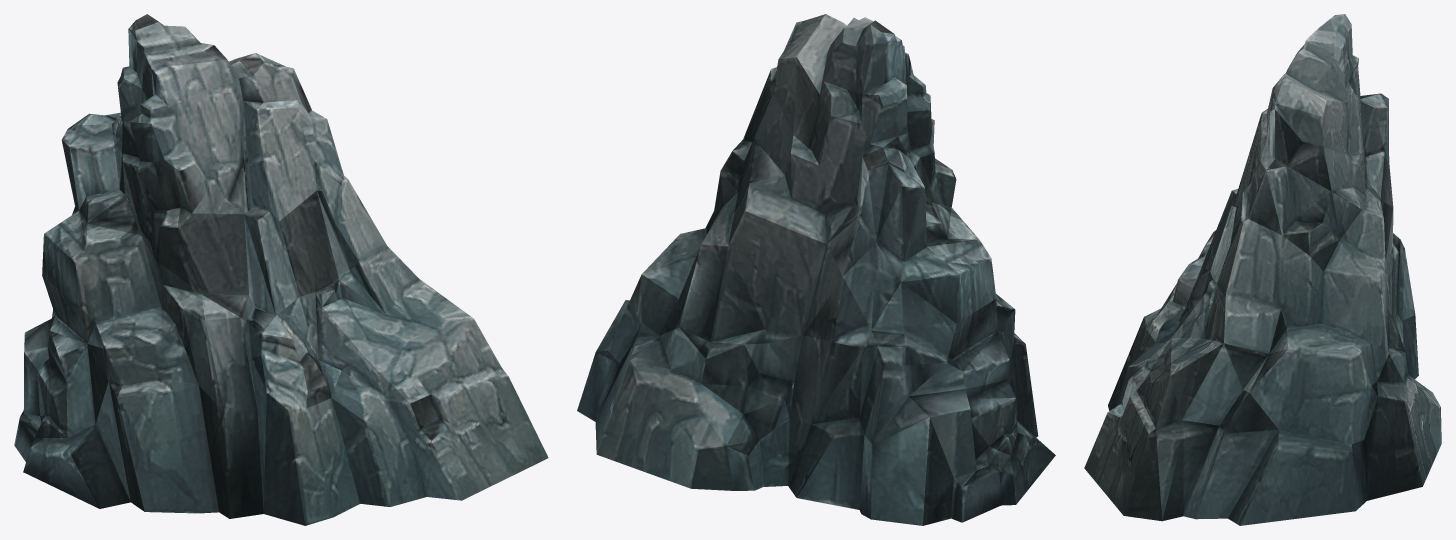
The model's file is W3_HD_GongHuiBoss_dashi01_07.fbx.
3 views of the same model, side by side, from view 1: azimuth 30°, elevation 25°; view 2: azimuth 150°, elevation 25°; view 3: azimuth 270°, elevation 25° (orthographic). The views are drawn at different scales.
Visible parts, largest first — view 1: W3_HD_GongHuiBoss_dashi01_07; view 2: W3_HD_GongHuiBoss_dashi01_07; view 3: W3_HD_GongHuiBoss_dashi01_07.
Part boxes in pixels (x1,y1,x2,y2): W3_HD_GongHuiBoss_dashi01_07: (14, 14, 548, 525); W3_HD_GongHuiBoss_dashi01_07: (577, 14, 1055, 525); W3_HD_GongHuiBoss_dashi01_07: (1084, 14, 1441, 525).
Bounding box in the file's own units: 111 × 104 × 88.99.
Materials: 1 (1 with a texture image).
